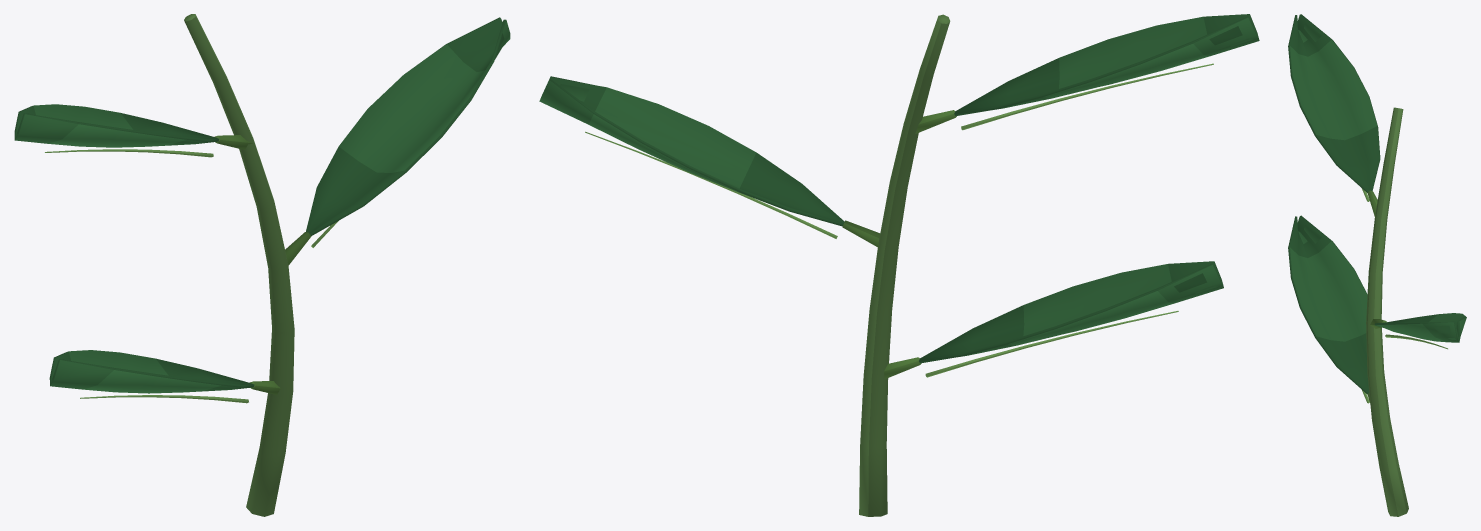
The model's file is garden-tulip-bud-stem-0.glb.
3 views of the same model, side by side, from view 1: azimuth 30°, elevation 25°; view 2: azimuth 150°, elevation 25°; view 3: azimuth 270°, elevation 25° (orthographic). The views are drawn at different scales.
Parts seen in each view (by area): view 1: tulip-bud-stem-0; view 2: tulip-bud-stem-0; view 3: tulip-bud-stem-0.
Boxes of the visible parts, bbox=[...] form: tulip-bud-stem-0: bbox=[14, 14, 510, 516]; tulip-bud-stem-0: bbox=[539, 14, 1259, 516]; tulip-bud-stem-0: bbox=[1288, 14, 1466, 516].
Size of the model in its own units: 0.3327 by 0.2745 by 0.1147.
